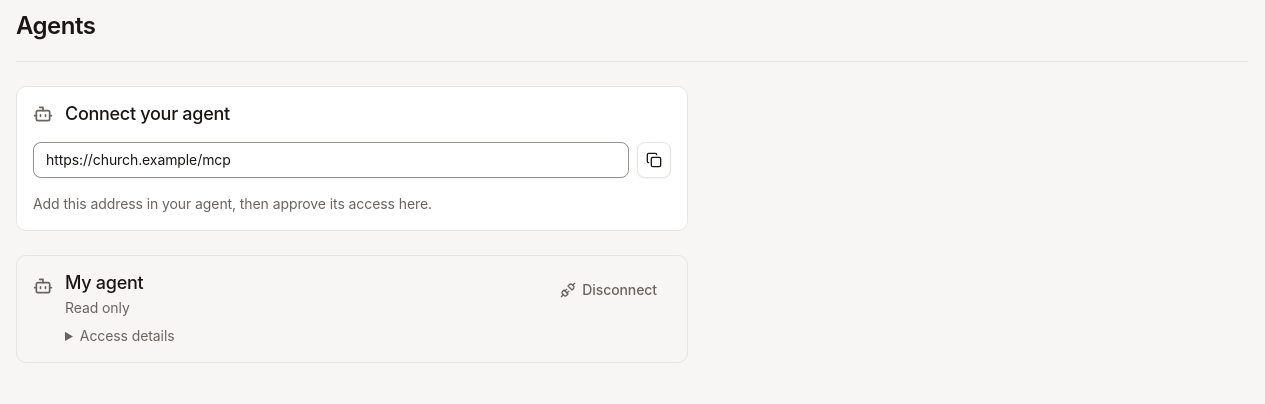
Test: keeps the connection visible when revocation fails and removes it only after server confirmation
The width and height of the screenshot is (1265, 404).
Click the button "Disconnect": (609, 290) [546,272,671,308]
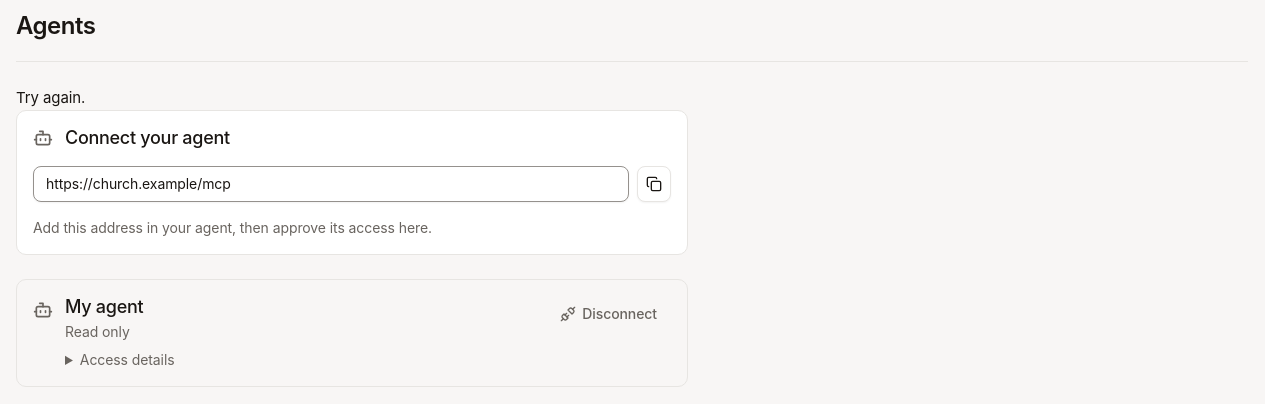
Now the message "Try again." is shown, box [16,88,85,107]
Click the button "Disconnect": (609, 314) [546,296,671,332]
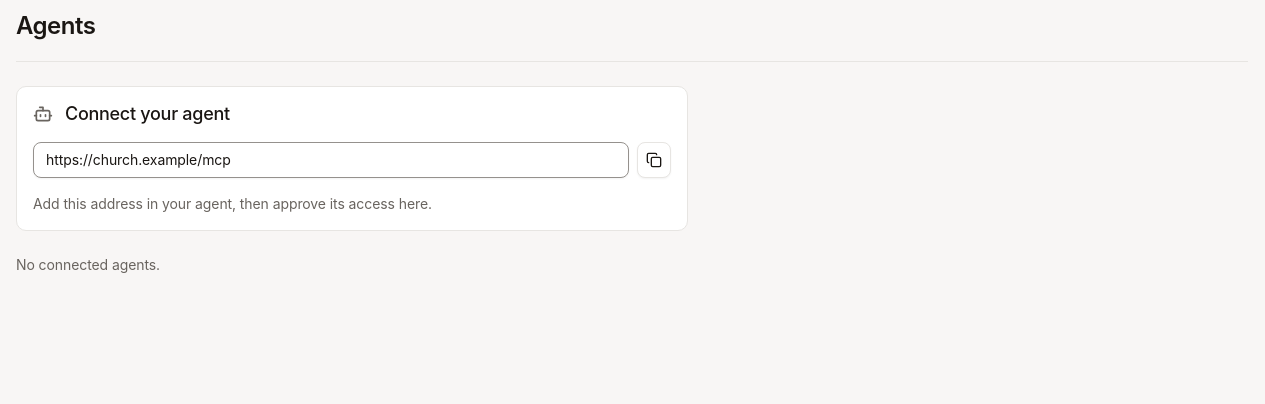
Now the text "No connected agents." is shown, box [16,256,160,272]
Now the message "Try again." is gone
